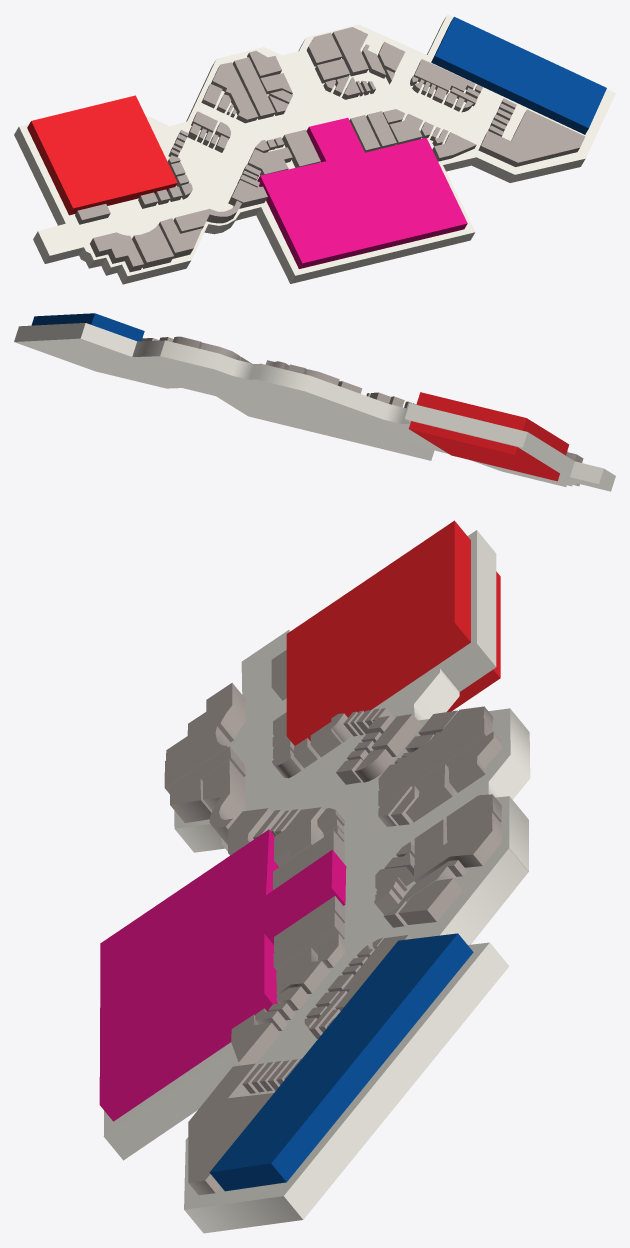
3 views of the same model, one above another, from view 1: azimuth 30°, elevation 25°; view 2: azimuth 150°, elevation 25°; view 3: azimuth 270°, elevation 25° (orthographic). The views are drawn at different scales.
Visible parts, largest first — view 1: mesh_id360, mesh_id358, mesh_id30, mesh_id356, mesh_id210, mesh_id318, mesh_id150, mesh_id321, mesh_id330, mesh_id152, mesh_id301, mesh_id156 (+15 smaller); view 2: mesh_id360, mesh_id30, mesh_id356, mesh_id332; view 3: mesh_id360, mesh_id358, mesh_id30, mesh_id356, mesh_id210, mesh_id330, mesh_id156, mesh_id150, mesh_id154, mesh_id321, mesh_id318, mesh_id152 (+13 smaller).
Boxes of the visible parts, bbox=[...] form: mesh_id360: bbox=[14, 14, 615, 284]; mesh_id358: bbox=[257, 117, 467, 268]; mesh_id30: bbox=[27, 95, 177, 215]; mesh_id356: bbox=[431, 16, 606, 134]; mesh_id210: bbox=[478, 109, 585, 166]; mesh_id318: bbox=[211, 62, 258, 123]; mesh_id150: bbox=[90, 232, 143, 272]; mesh_id321: bbox=[232, 57, 275, 119]; mesh_id330: bbox=[332, 27, 368, 76]; mesh_id152: bbox=[132, 224, 173, 268]; mesh_id301: bbox=[413, 59, 475, 94]; mesh_id156: bbox=[173, 200, 241, 233]; mesh_id360: bbox=[14, 323, 615, 491]; mesh_id30: bbox=[408, 392, 569, 481]; mesh_id356: bbox=[31, 313, 144, 341]; mesh_id332: bbox=[200, 342, 240, 360]; mesh_id360: bbox=[103, 530, 530, 1233]; mesh_id358: bbox=[99, 829, 346, 1121]; mesh_id30: bbox=[286, 520, 500, 745]; mesh_id356: bbox=[209, 933, 473, 1191]; mesh_id210: bbox=[188, 1063, 273, 1195]; mesh_id330: bbox=[414, 812, 501, 883]; mesh_id156: bbox=[203, 760, 245, 844]; mesh_id150: bbox=[166, 683, 245, 760]; mesh_id154: bbox=[170, 746, 245, 822]; mesh_id321: bbox=[378, 719, 493, 806]; mesh_id318: bbox=[378, 706, 493, 789]; mesh_id152: bbox=[164, 726, 231, 793].
Size of the model in its own units: 1.76 by 0.4442 by 0.5689.
Materials: 88 (88 with a texture image).
